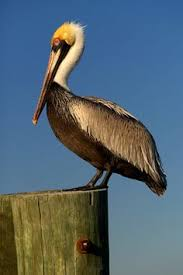pelican: (32, 24, 168, 196)
